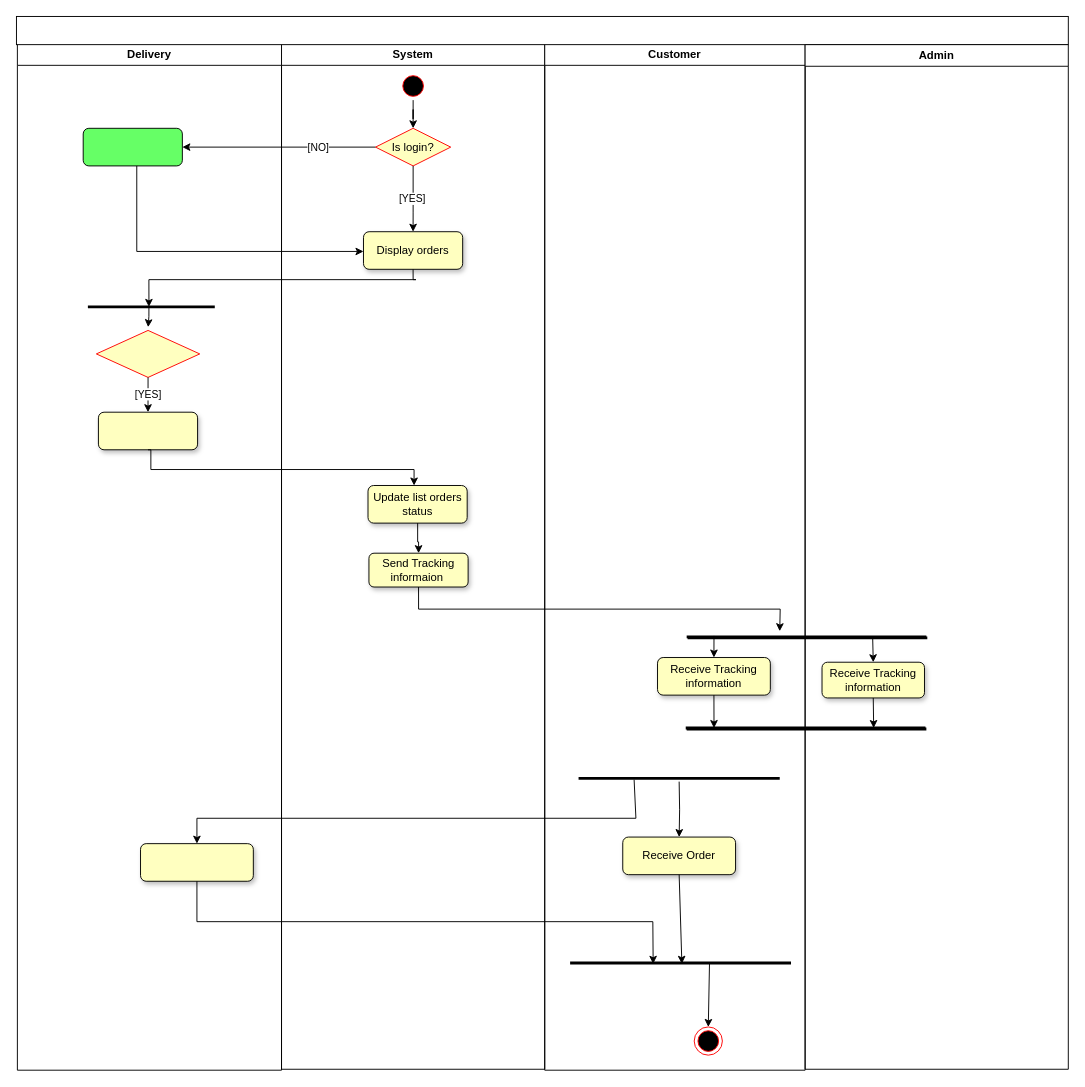
This 1085x1087 diagram has some shape labels left out. Here are the shapes that lost their labels. From the top down, the centre of each, then its label:
[542,30]: Modify Orders State
[132,146]: Login
[147,353]: Is appropriate
[148,431]: Add to delivery list
[197,863]: Archive Order
